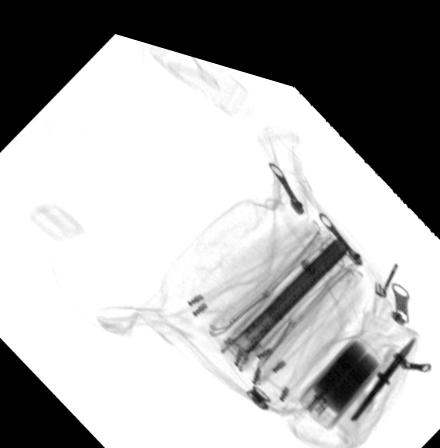Powerbank: (290, 309, 388, 415)
Scissors: (327, 306, 422, 427)
